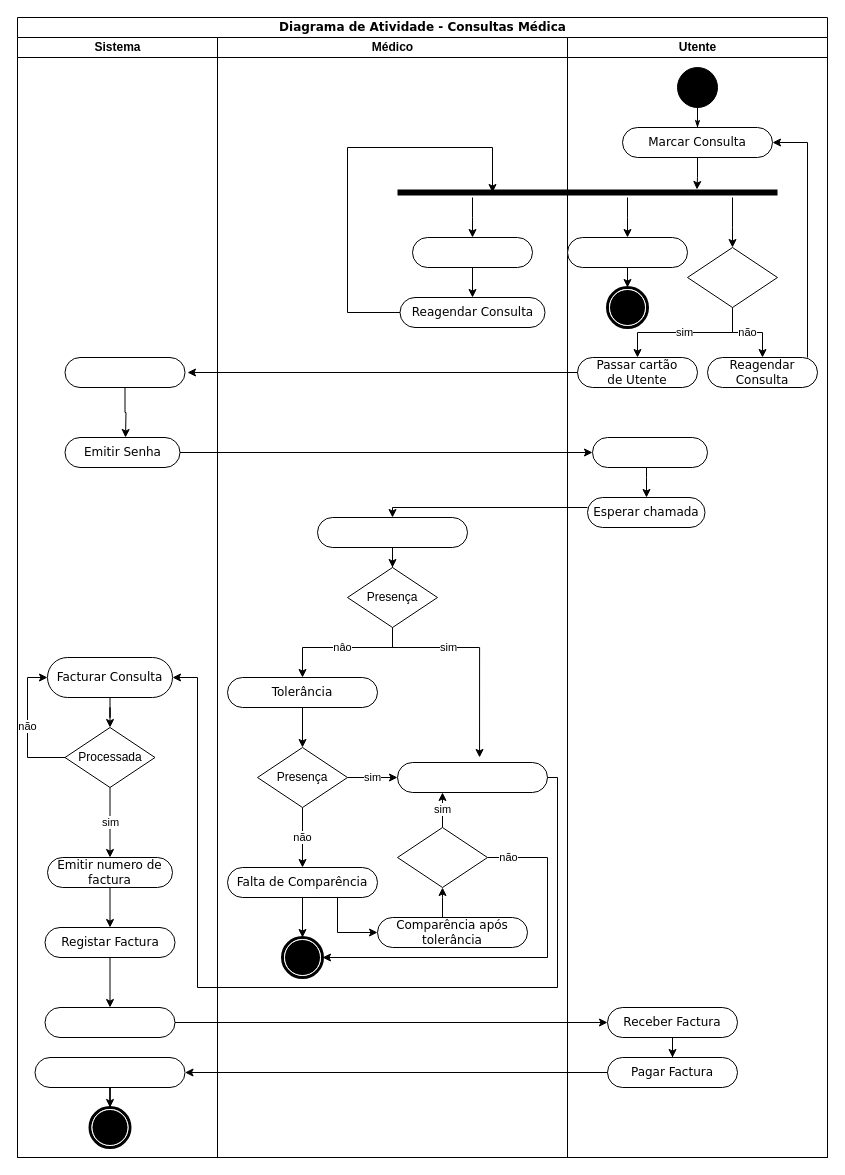
The diagram is 845 pixels wide and 1175 high, and some of its shapes have lost their labels. The centre of each missing label's shape, as x and y in pixels:
"Aceitar Utente" belongs at point (442, 857).
"Chamar Utente" belongs at point (392, 532).
"Comparência" belongs at point (732, 277).
"Confirmar Pagamento" belongs at point (109, 1072).
"Dar Entrada do Utente" belongs at point (124, 372).
"Desistir" belongs at point (627, 252).
"Enviar Factura" belongs at point (109, 1022).
"Impossibilidade" belongs at point (472, 252).
"Realizar Consulta" belongs at point (472, 777).
"Recolher Senha" belongs at point (650, 452).
